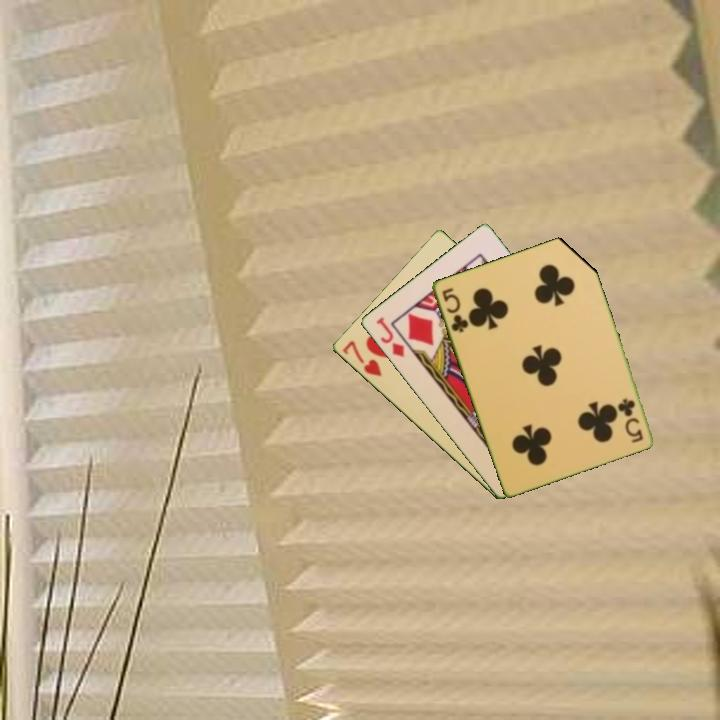5c: (438, 284, 471, 335), (615, 395, 645, 445)
7h: (338, 337, 385, 379)
Jd: (372, 313, 407, 360)
